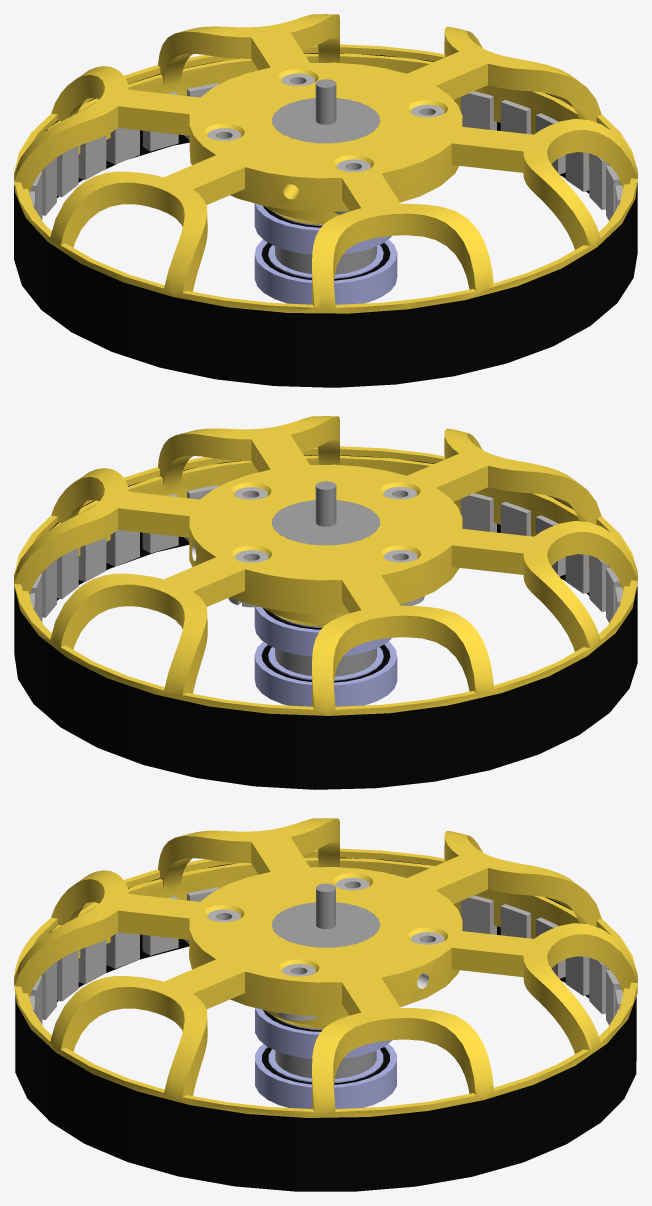
File: rotar.glb
The picture shows the model from 3 angles, top to bottom: view 1: azimuth 30°, elevation 25°; view 2: azimuth 150°, elevation 25°; view 3: azimuth 270°, elevation 25°; orthographic projection.
Visible parts, largest first — view 1: outrunner; view 2: outrunner; view 3: outrunner.
Boxes of the visible parts, x1,y1,x2,y2 form: outrunner: [14, 14, 637, 387]; outrunner: [14, 416, 637, 789]; outrunner: [14, 818, 637, 1191].
Size of the model in its own units: 0.0918 by 0.0316 by 0.0918.
